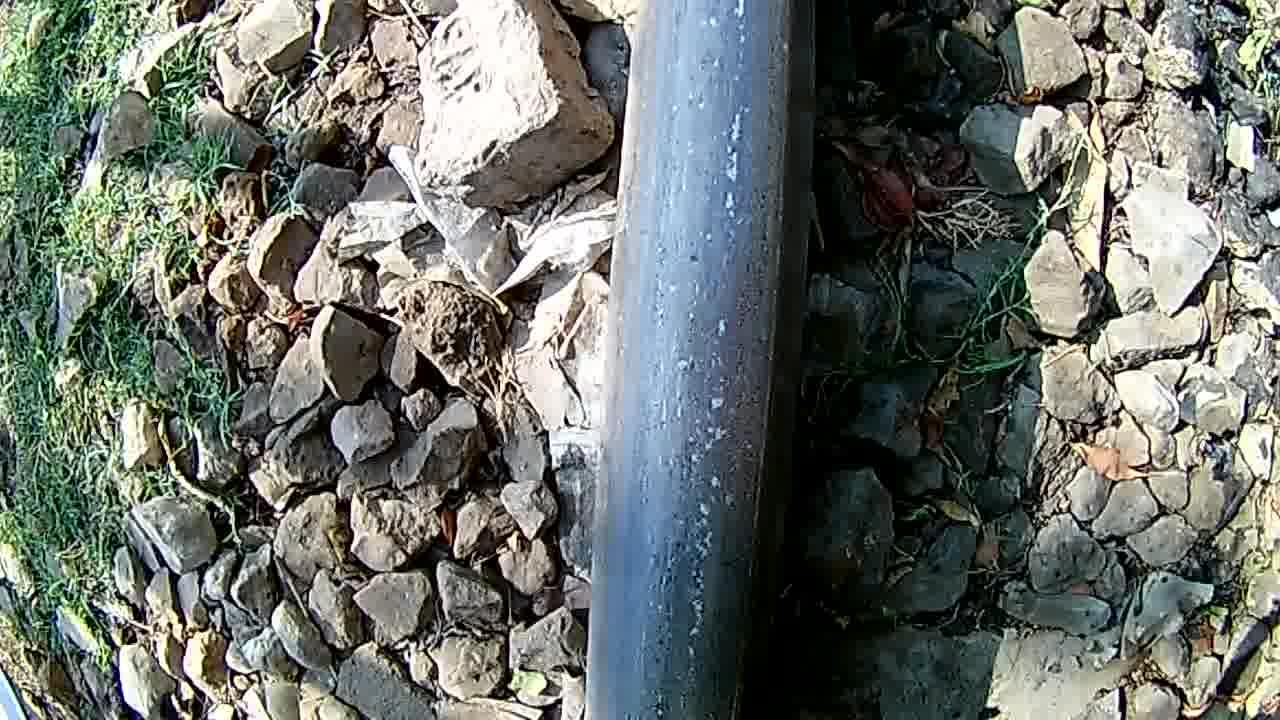clip_missing: (604, 0, 790, 720)
